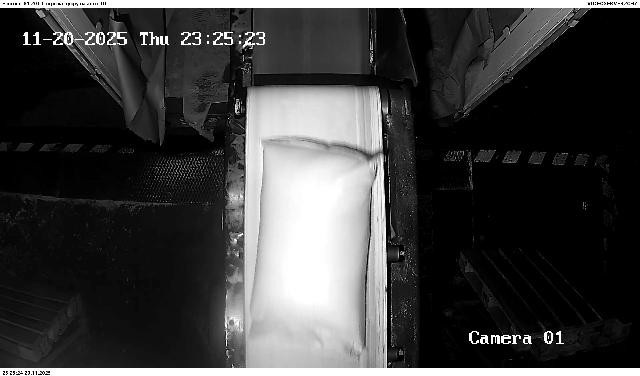bag: (251, 139, 386, 355)
